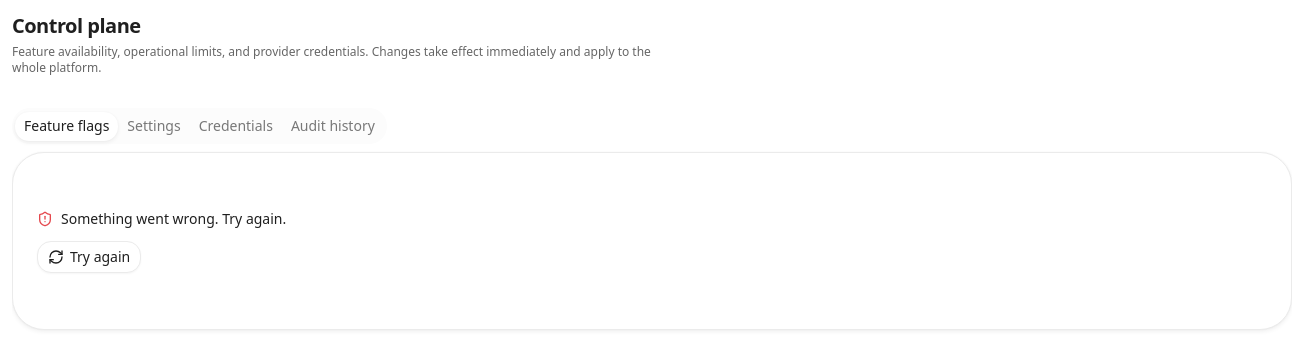
Test: a listing that fails › asks again when the operator presses retry
Expected: the text "Something went wrong. Try again." is shown, [37,209,286,229]
Click the button "Try again": (89, 257) [37,241,141,273]
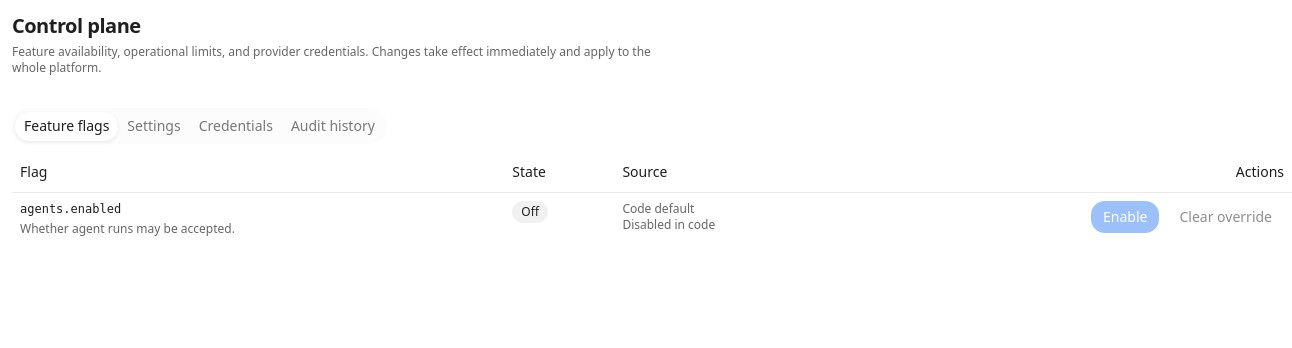
Expected: the text "agents.enabled" is shown, [20,202,121,216]
